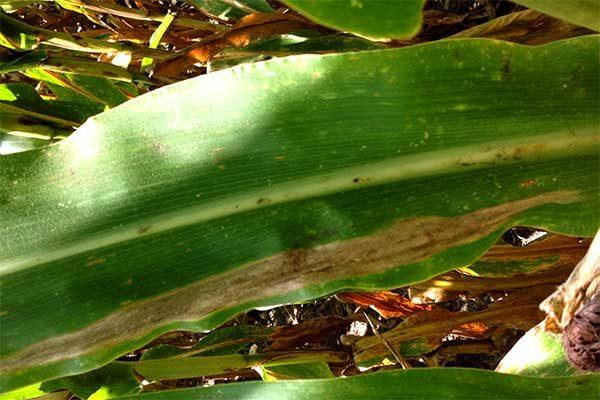Corn leaf blight: (2, 32, 600, 384)
